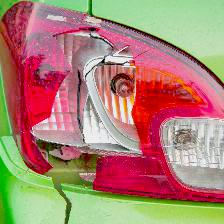tail_lamp: (12, 5, 204, 203)
